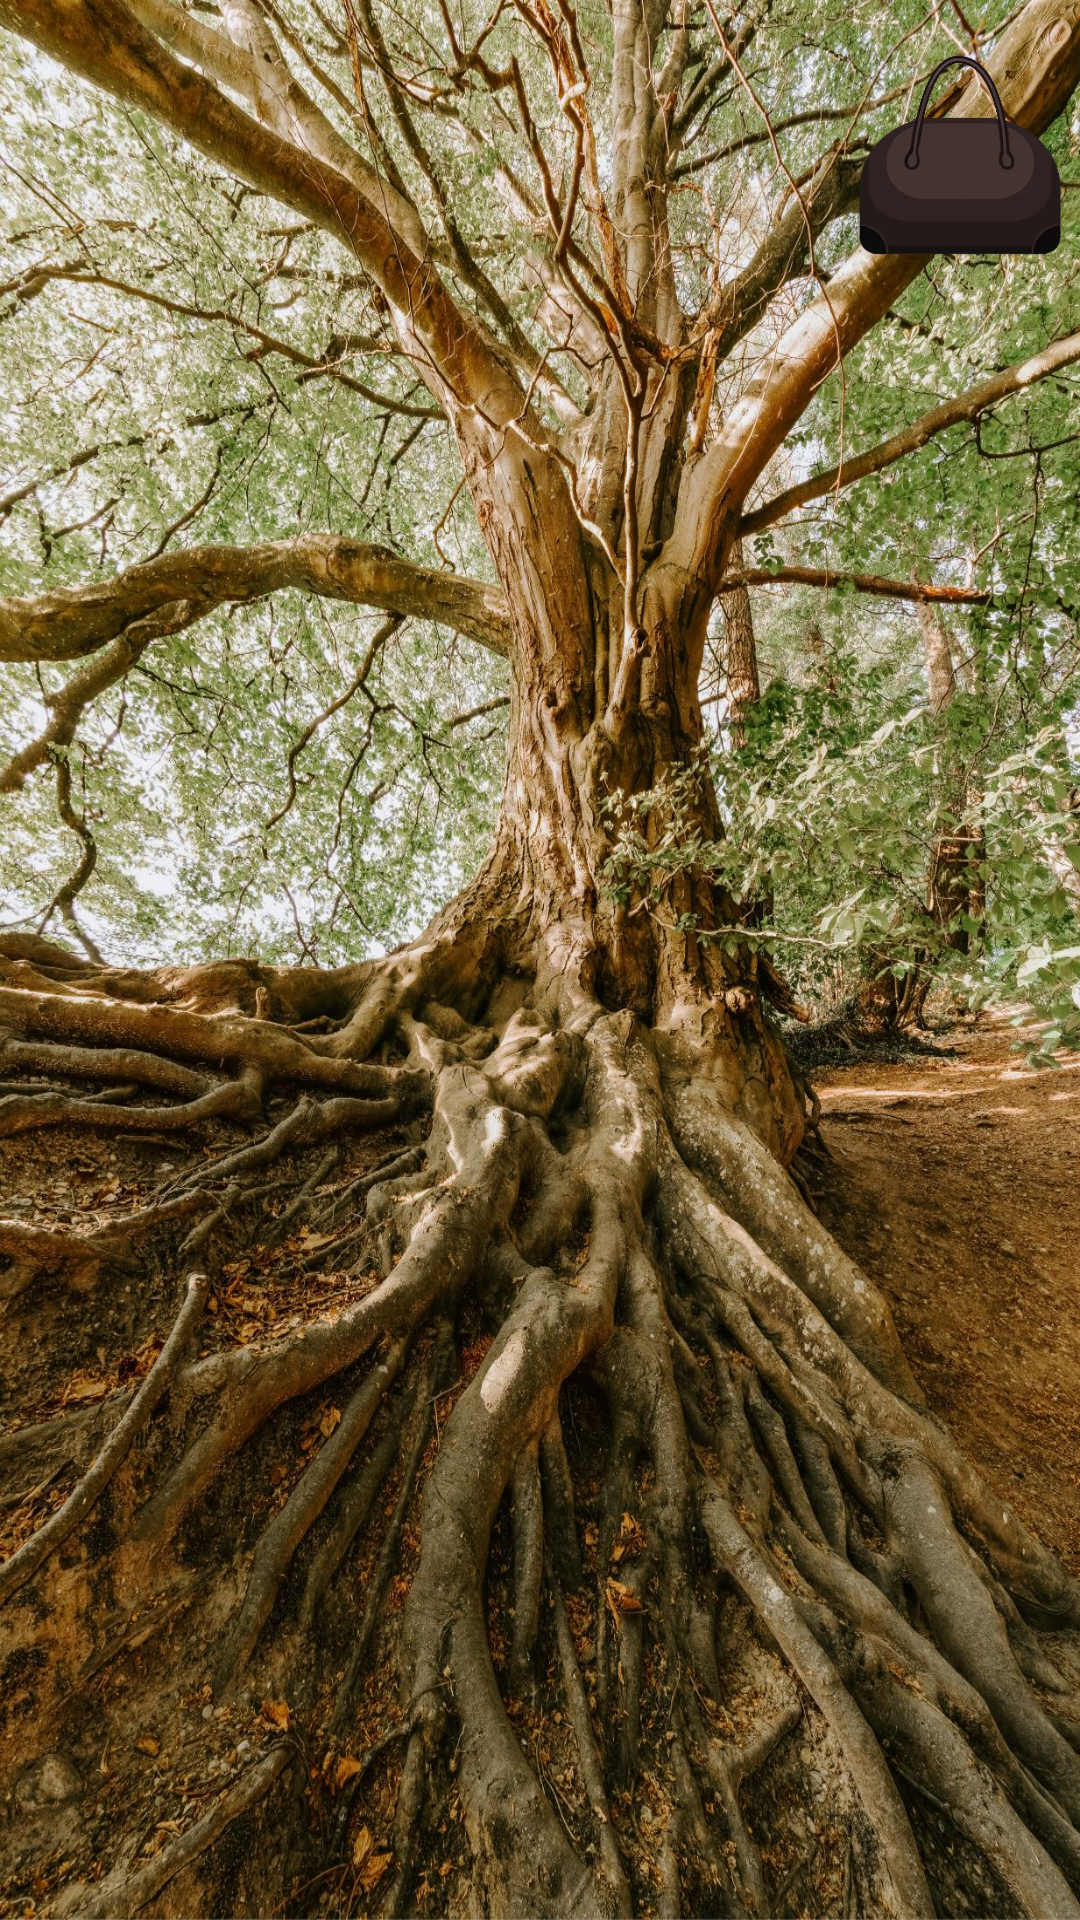

Where to tap for icons on this 1080*1920 app screen, as point (x, y):
bag: point (960, 160)
